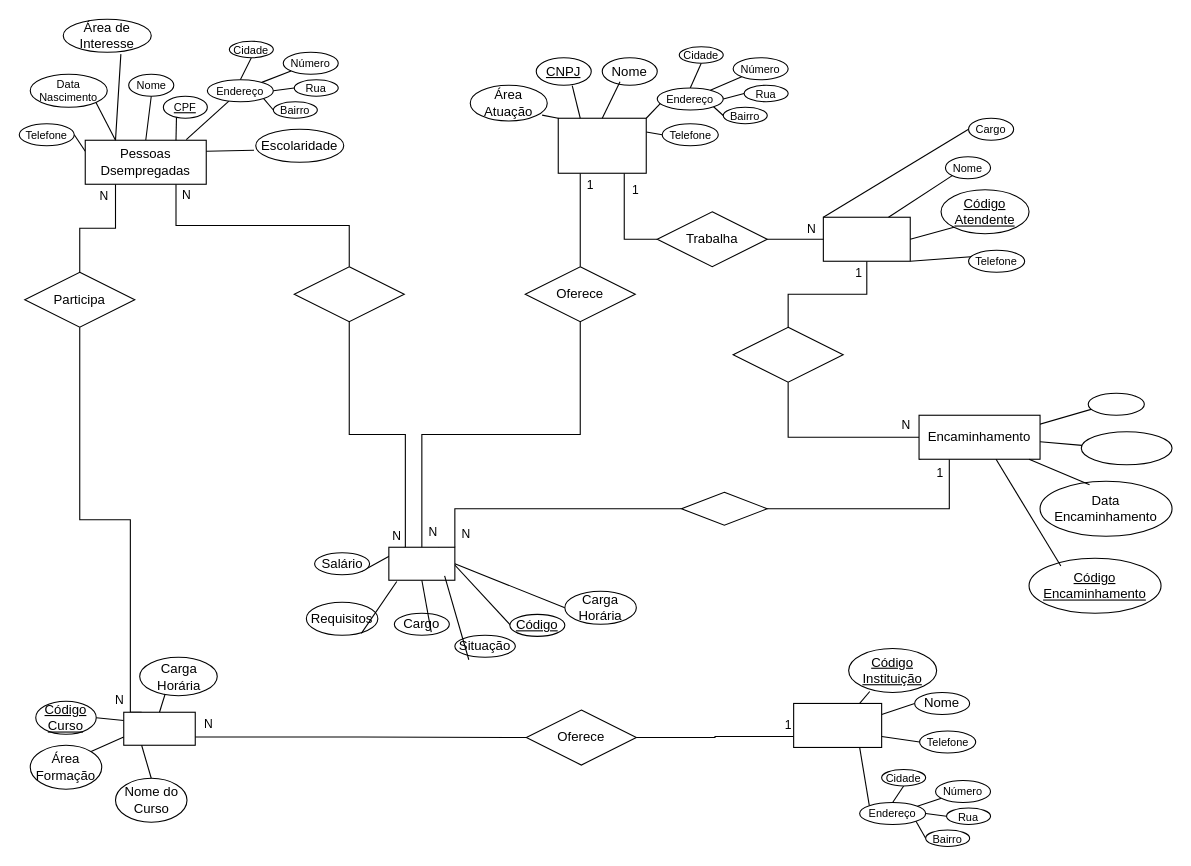
This 1191x866 diagram has some shape labels left out. Here are the shapes that lost their labels. From the top down, the centre of each, then its label:
pixel 601 145: Empresa
pixel 866 238: Atendente
pixel 348 294: Candidata
pixel 787 354: Realiza
pixel 1115 403: Status
pixel 1126 448: Observação
pixel 723 508: De
pixel 421 563: Vaga
pixel 159 728: Curso
pixel 837 724: Instituição
